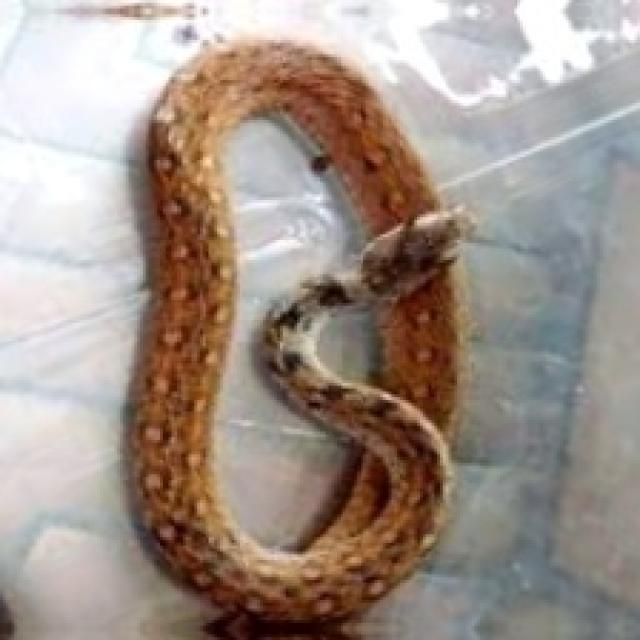boies keelback: (129, 40, 466, 620), (211, 114, 369, 551)
